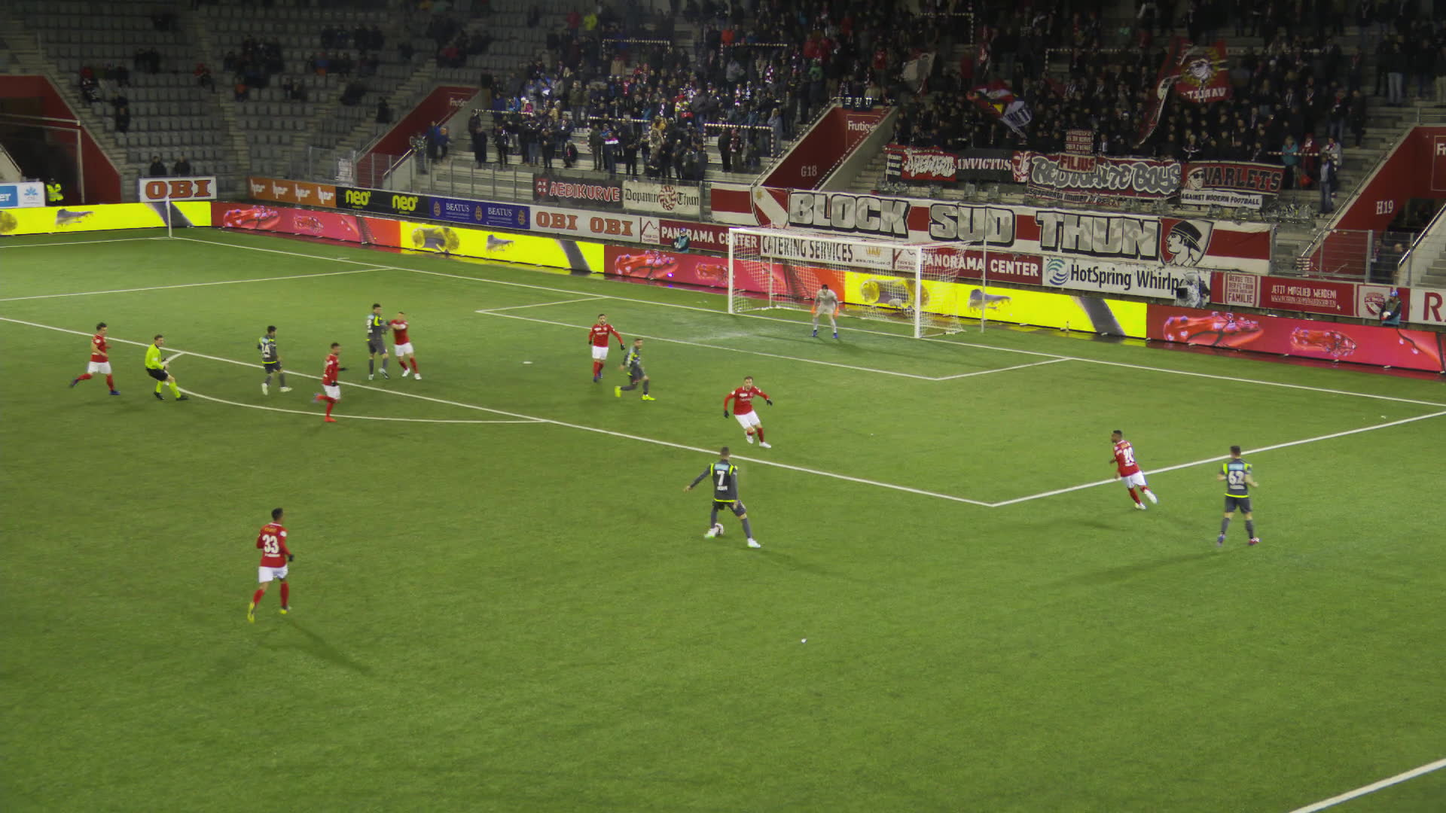ball: (714, 522, 725, 535)
player: (682, 447, 760, 550), (244, 504, 292, 636), (1212, 443, 1257, 547), (1106, 428, 1160, 513), (66, 321, 117, 396), (721, 374, 773, 447), (310, 341, 348, 422), (386, 311, 425, 381), (588, 312, 624, 382), (257, 325, 291, 395), (618, 337, 656, 399), (366, 303, 389, 382), (810, 282, 840, 338)
referee: (145, 334, 189, 401)
